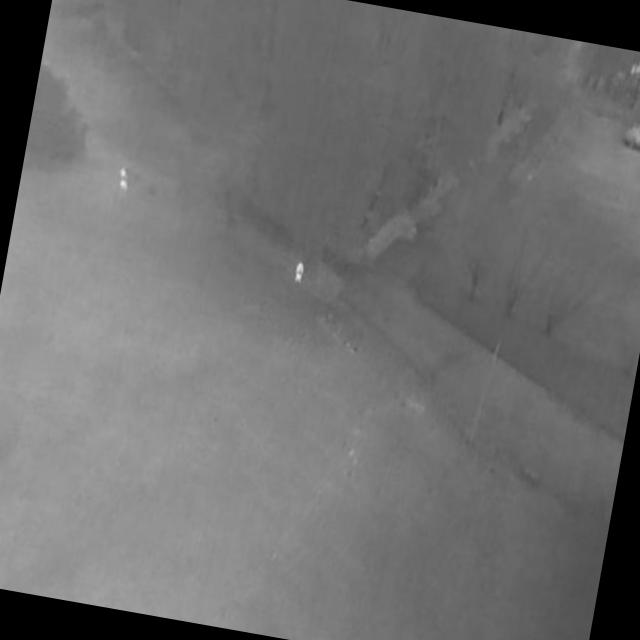person: (115, 166, 131, 194), (293, 262, 306, 287)
